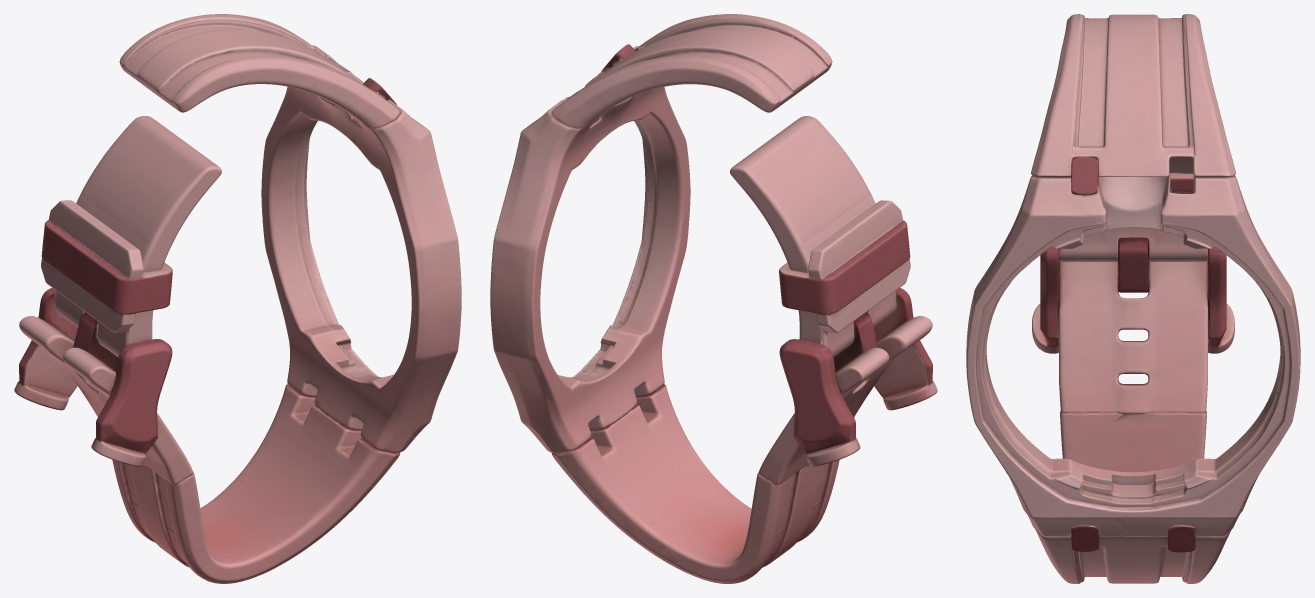
The model's file is wristwatch.opt.glb.
3 views of the same model, side by side, from view 1: azimuth 30°, elevation 25°; view 2: azimuth 150°, elevation 25°; view 3: azimuth 270°, elevation 25° (orthographic). The views are drawn at different scales.
Parts seen in each view (by area): view 1: tripo_node_d87b70e4-0b56-478c-a0bb-4a2197301324; view 2: tripo_node_d87b70e4-0b56-478c-a0bb-4a2197301324; view 3: tripo_node_d87b70e4-0b56-478c-a0bb-4a2197301324.
Part boxes in pixels (left/top/right/bottom): tripo_node_d87b70e4-0b56-478c-a0bb-4a2197301324: left=14, top=14, right=461, bottom=583; tripo_node_d87b70e4-0b56-478c-a0bb-4a2197301324: left=490, top=14, right=937, bottom=583; tripo_node_d87b70e4-0b56-478c-a0bb-4a2197301324: left=966, top=14, right=1300, bottom=583.
Bounding box in the file's own units: 0.6478 × 0.9802 × 0.545.
Materials: 1 (1 with a texture image).
